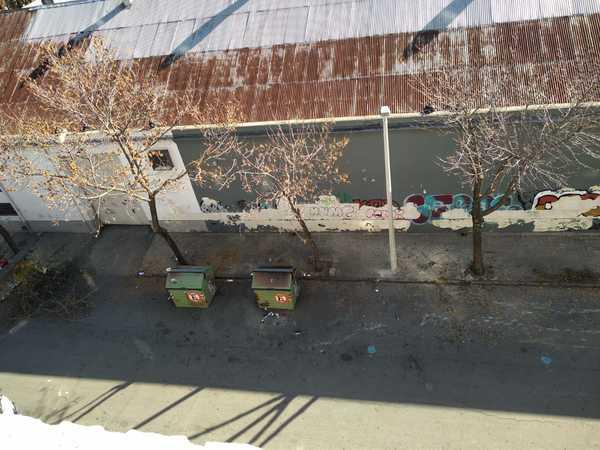Dechets: (258, 310, 285, 324), (302, 270, 313, 278), (137, 269, 146, 276), (226, 278, 235, 284), (166, 267, 171, 272)
Trash: (251, 265, 300, 310), (166, 265, 216, 308)
